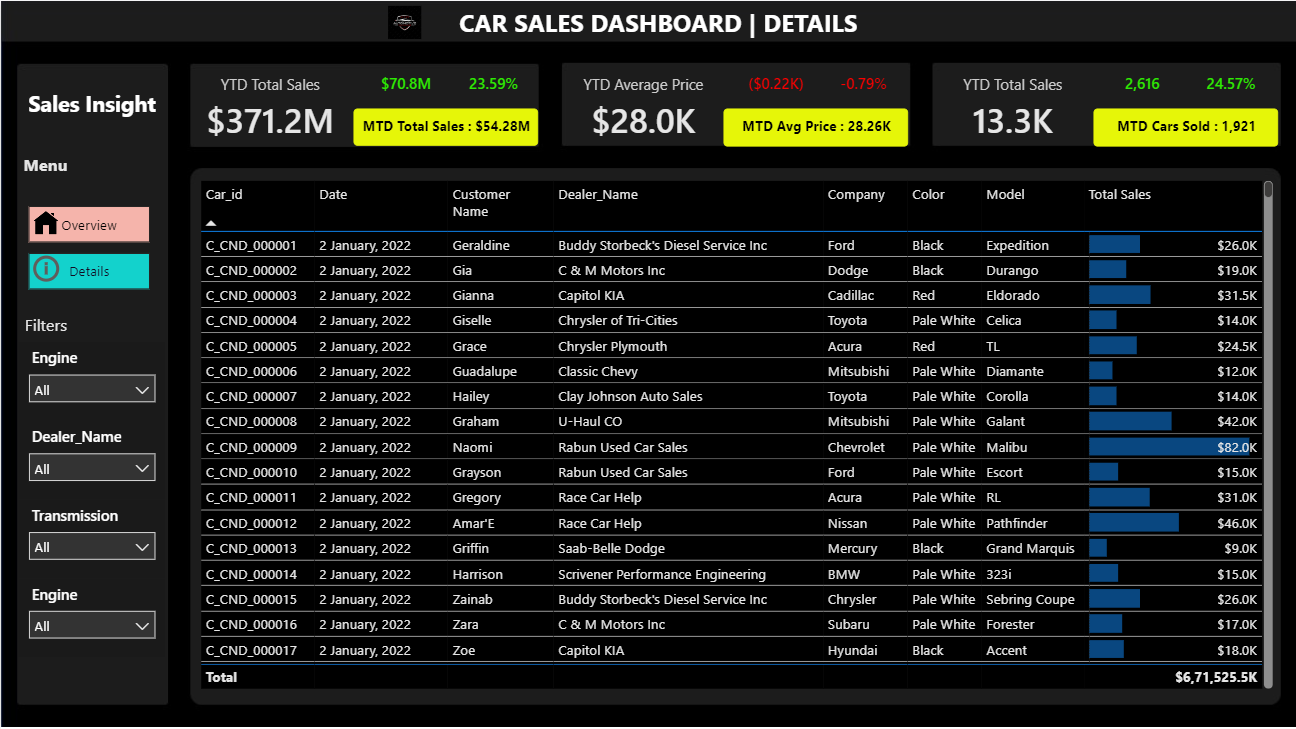

The page's visual inventory and layout, read from the dashboard file:
{"tool":"powerbi","page":{"name":"Details","canvas":[1280,720],"ordinal":1},"visuals":[{"type":"card","title":"YTD Total Sales","fields":{"Values":["car_data.YTD Total Sales"]},"box":[184.5,71.2,164,73.6],"z":0},{"type":"card","fields":{"Values":["car_data.Sales diff"]},"box":[357,61.5,86.8,44.6],"z":1000},{"type":"card","fields":{"Values":["car_data.YOY Sales Growth"]},"box":[443.8,61.5,86.8,44.6],"z":2000},{"type":"card","fields":{"Values":["car_data.MTD KPI"]},"box":[348.5,106.1,182.1,37],"z":3000},{"type":"card","title":"YTD Average Price","fields":{"Values":["car_data.YTD Average Price"]},"box":[556,71.2,158,72.4],"z":4000},{"type":"card","fields":{"Values":["car_data.Average YTD Difference"]},"box":[722.4,61.5,86.8,44.6],"z":5000},{"type":"card","fields":{"Values":["car_data.YOY Average Price"]},"box":[809.2,61.5,86.8,44.6],"z":6000},{"type":"card","fields":{"Values":["car_data.MTDA KPI"]},"box":[714,106.1,182.1,37.4],"z":7000},{"type":"card","title":"YTD Total Sales","fields":{"Values":["car_data.YTD Cars Sold"]},"box":[920.2,71.2,159.2,73.6],"z":8000},{"type":"card","fields":{"Values":["car_data.Cars sold diff"]},"box":[1084.2,61.5,86.8,44.6],"z":9000},{"type":"card","fields":{"Values":["car_data.YOY Growth in cars Sold"]},"box":[1171.1,61.5,86.8,44.6],"z":10000},{"type":"card","fields":{"Values":["car_data.MTDC KPI"]},"box":[1079.4,106.1,182.1,37.4],"z":11000},{"type":"textbox","box":[398.8,0,501.2,51.2],"z":12000},{"type":"slicer","fields":{"Values":["car_data.Engine"]},"box":[17.5,570,145,77.5],"z":13000},{"type":"slicer","fields":{"Values":["car_data.Engine"]},"box":[17.5,337.5,145,77.5],"z":14000},{"type":"slicer","fields":{"Values":["car_data.Dealer_Name"]},"box":[17.5,415,145,77.5],"z":15000},{"type":"slicer","fields":{"Values":["car_data.Transmission"]},"box":[17.5,492.5,145,77.5],"z":16000},{"type":"tableEx","fields":{"Values":["car_data.Car_id","car_data.Date","car_data.Customer Name","car_data.Dealer_Name","car_data.Company","car_data.Color","car_data.Model","car_data.Price ($)"]},"box":[191.8,172.5,1069.7,511.4],"z":17000},{"type":"textbox","box":[18.1,303.9,72.4,33.8],"z":18000},{"type":"textbox","box":[17.5,81.2,145,43.8],"z":19000},{"type":"pageNavigator","box":[27.7,202.6,120.6,83.2],"z":20000},{"type":"textbox","box":[17.5,146.2,115,40],"z":21000},{"type":"image","box":[324.4,0,148.3,42.2],"z":22000},{"type":"image","box":[27.7,197.8,35,43.4],"z":23000},{"type":"actionButton","box":[27.7,244.8,35,39.8],"z":24000}]}

Visuals, with their boxes in screenshot pixels (x1, y1, x2, y2), scaled from the page's 1280x720 canvas onto the 1296x729 screenshot:
"YTD Total Sales" card: crop(187, 72, 353, 147)
card - car_data.Sales diff: crop(361, 62, 449, 107)
card - car_data.YOY Sales Growth: crop(449, 62, 537, 107)
card - car_data.MTD KPI: crop(353, 107, 537, 145)
"YTD Average Price" card: crop(563, 72, 723, 145)
card - car_data.Average YTD Difference: crop(731, 62, 819, 107)
card - car_data.YOY Average Price: crop(819, 62, 907, 107)
card - car_data.MTDA KPI: crop(723, 107, 907, 145)
"YTD Total Sales" card: crop(932, 72, 1093, 147)
card - car_data.Cars sold diff: crop(1098, 62, 1186, 107)
card - car_data.YOY Growth in cars Sold: crop(1186, 62, 1274, 107)
card - car_data.MTDC KPI: crop(1093, 107, 1277, 145)
textbox: crop(404, 0, 911, 52)
slicer - car_data.Engine: crop(18, 577, 165, 656)
slicer - car_data.Engine: crop(18, 342, 165, 420)
slicer - car_data.Dealer_Name: crop(18, 420, 165, 499)
slicer - car_data.Transmission: crop(18, 499, 165, 577)
tableEx - car_data.Car_id x car_data.Date: crop(194, 175, 1277, 692)
textbox: crop(18, 308, 92, 342)
textbox: crop(18, 82, 165, 127)
pageNavigator: crop(28, 205, 150, 289)
textbox: crop(18, 148, 134, 189)
image: crop(328, 0, 479, 43)
image: crop(28, 200, 63, 244)
actionButton: crop(28, 248, 63, 288)
